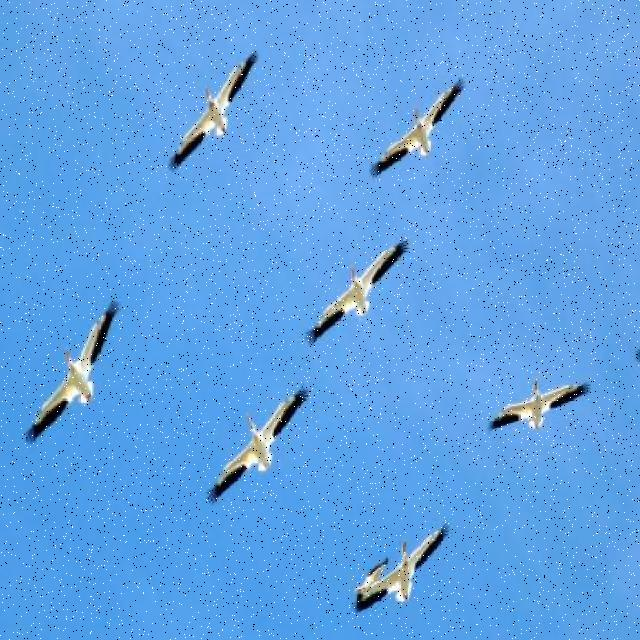bird: (24, 300, 120, 446), (205, 385, 310, 503), (306, 239, 408, 347), (167, 51, 258, 171), (370, 80, 464, 178), (353, 522, 449, 615), (488, 378, 590, 433), (354, 558, 390, 610)
